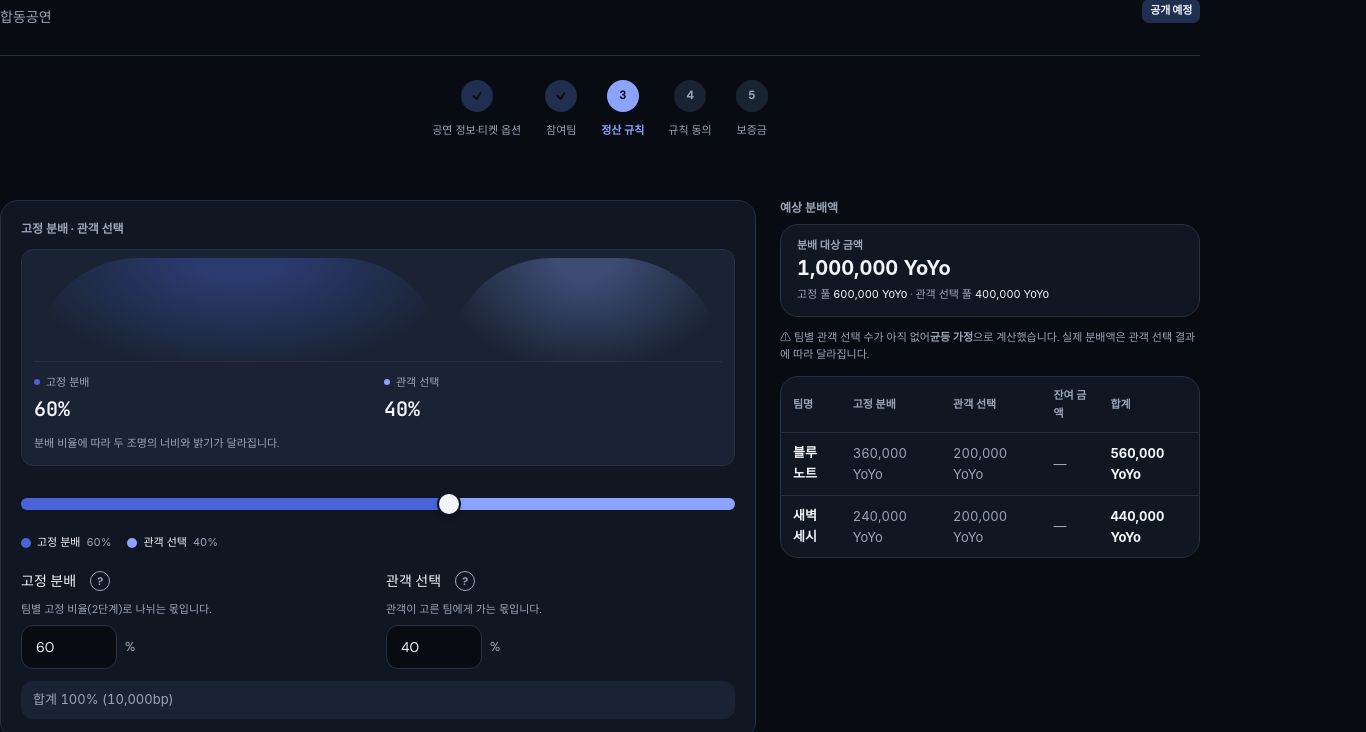
SettlementRules mobile simulation › preserves reciprocal bp autofill, exact payouts, and the save payload
The image size is (1366, 732).
Replace the text in the field labelled "고정 분배" with "35" at [69, 647], box x1=21 y1=625 x2=117 y2=669
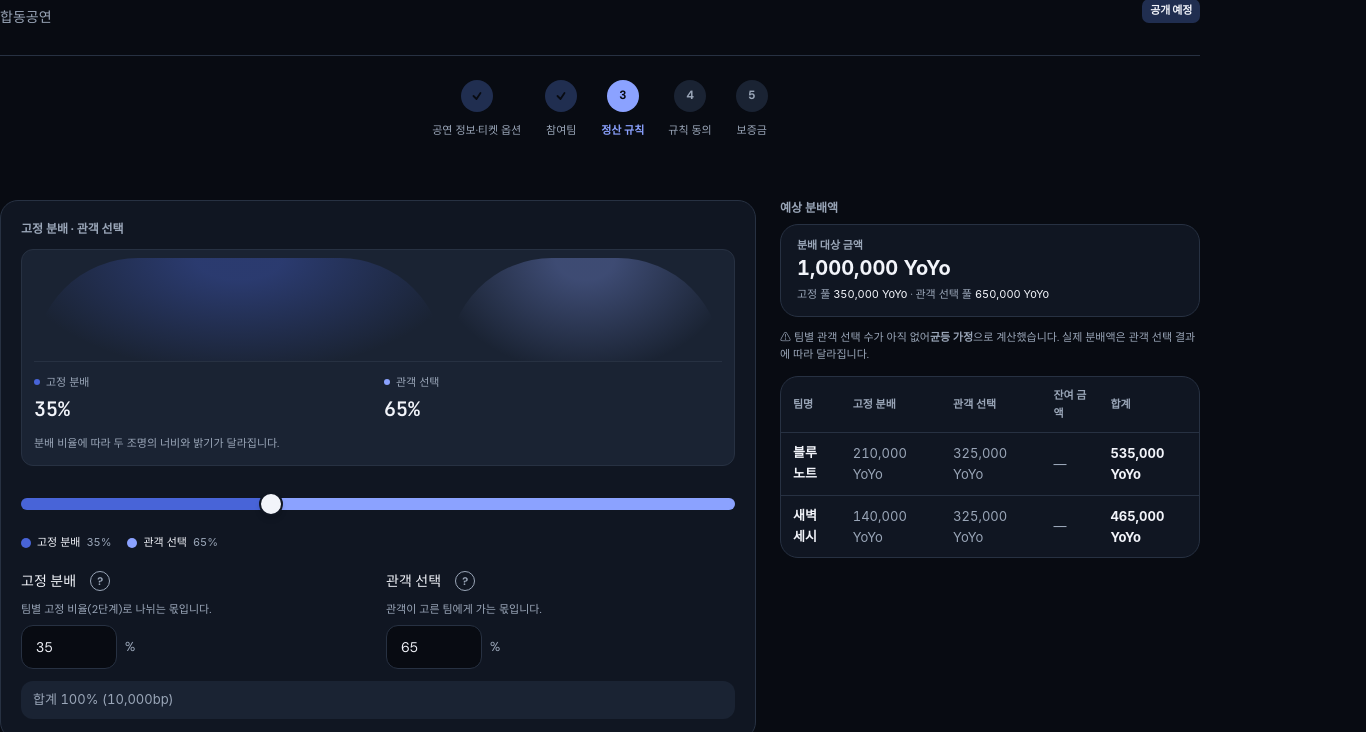
Now the field labelled "관객 선택" holds "65"
Now the cells read "210,000 YoYo", "325,000 YoYo", "—", "535,000 YoYo", in this order, box x1=841 y1=433 x2=941 y2=495; x1=941 y1=433 x2=1042 y2=495; x1=1042 y1=433 x2=1098 y2=495; x1=1098 y1=433 x2=1199 y2=495
Replace the text in the field labelled "관객 선택" with "50" at [434, 647], box x1=386 y1=625 x2=482 y2=669
(page scrolled)
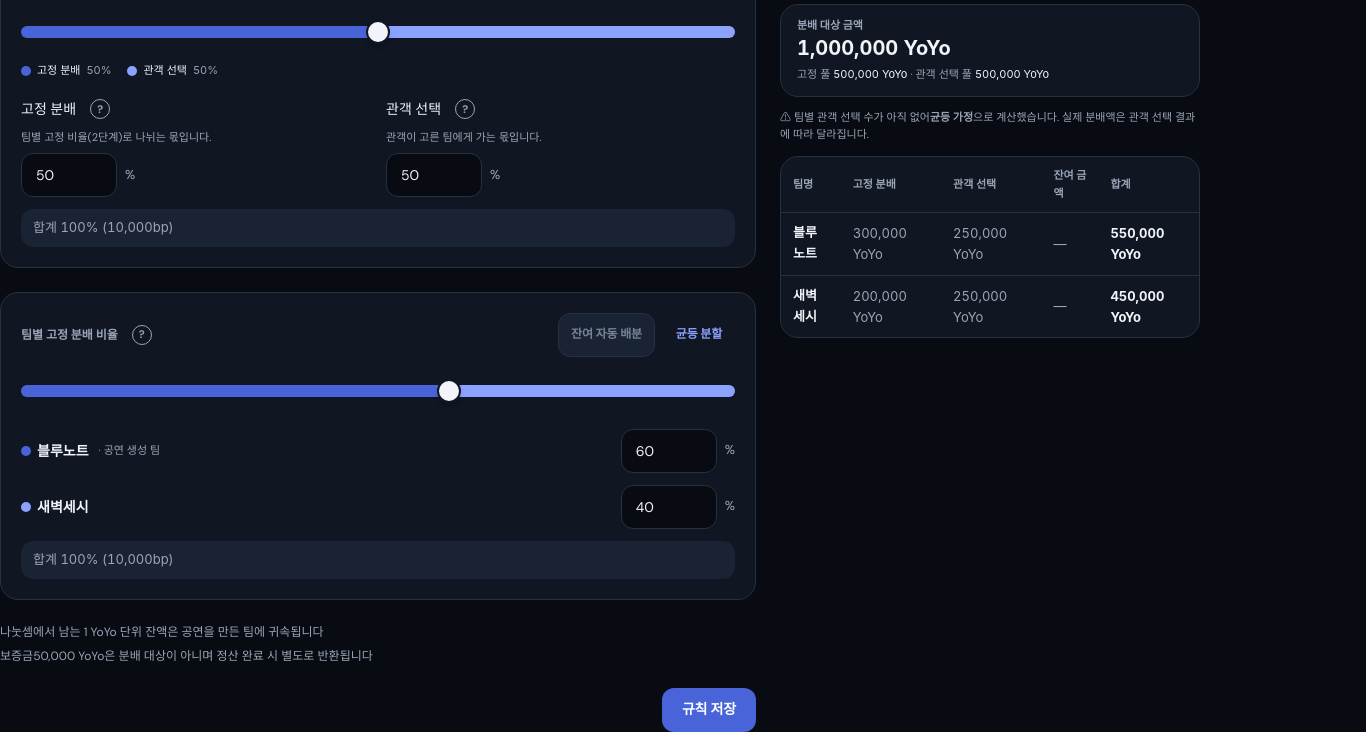
Now the field labelled "고정 분배" holds "50", box x1=21 y1=153 x2=117 y2=197
Click the button "규칙 저장" at [709, 710], box x1=662 y1=688 x2=756 y2=731
(page scrolled)
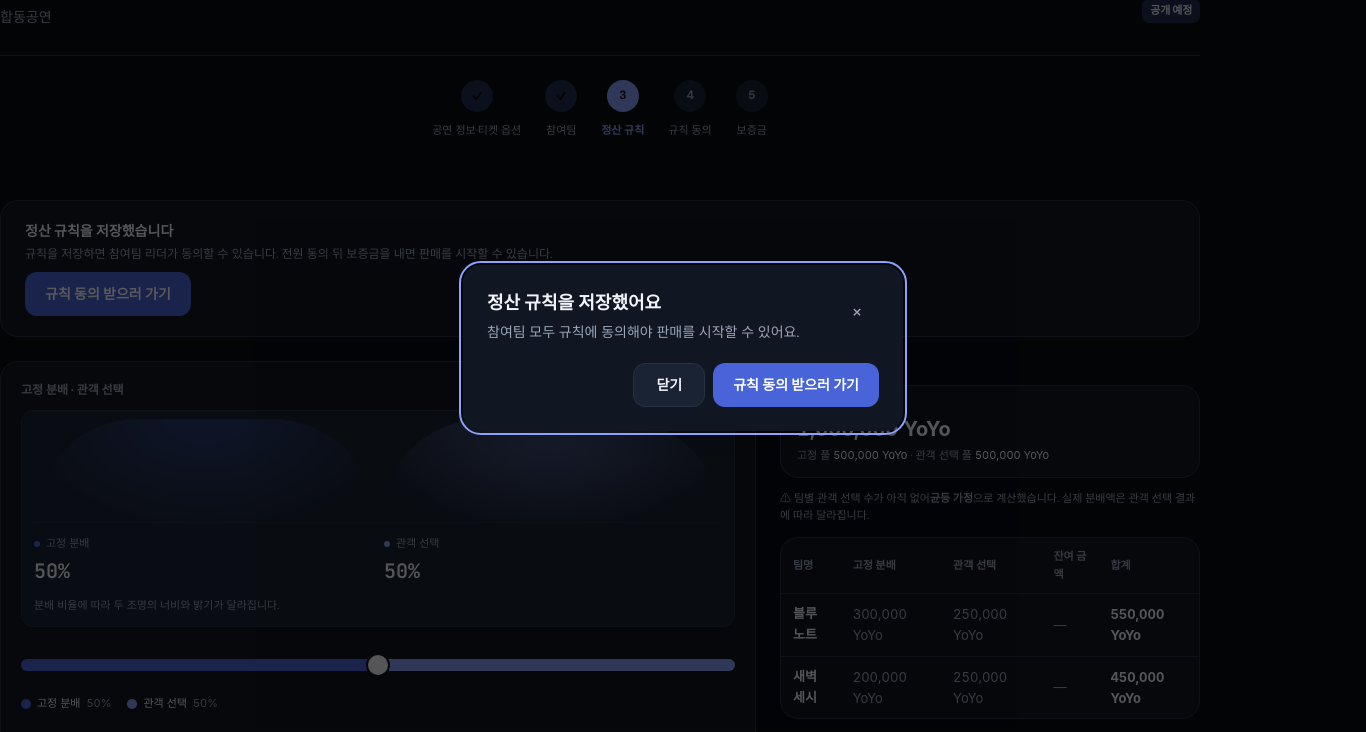
Now the text "정산 규칙을 저장했습니다" is shown, box x1=25 y1=222 x2=173 y2=240
